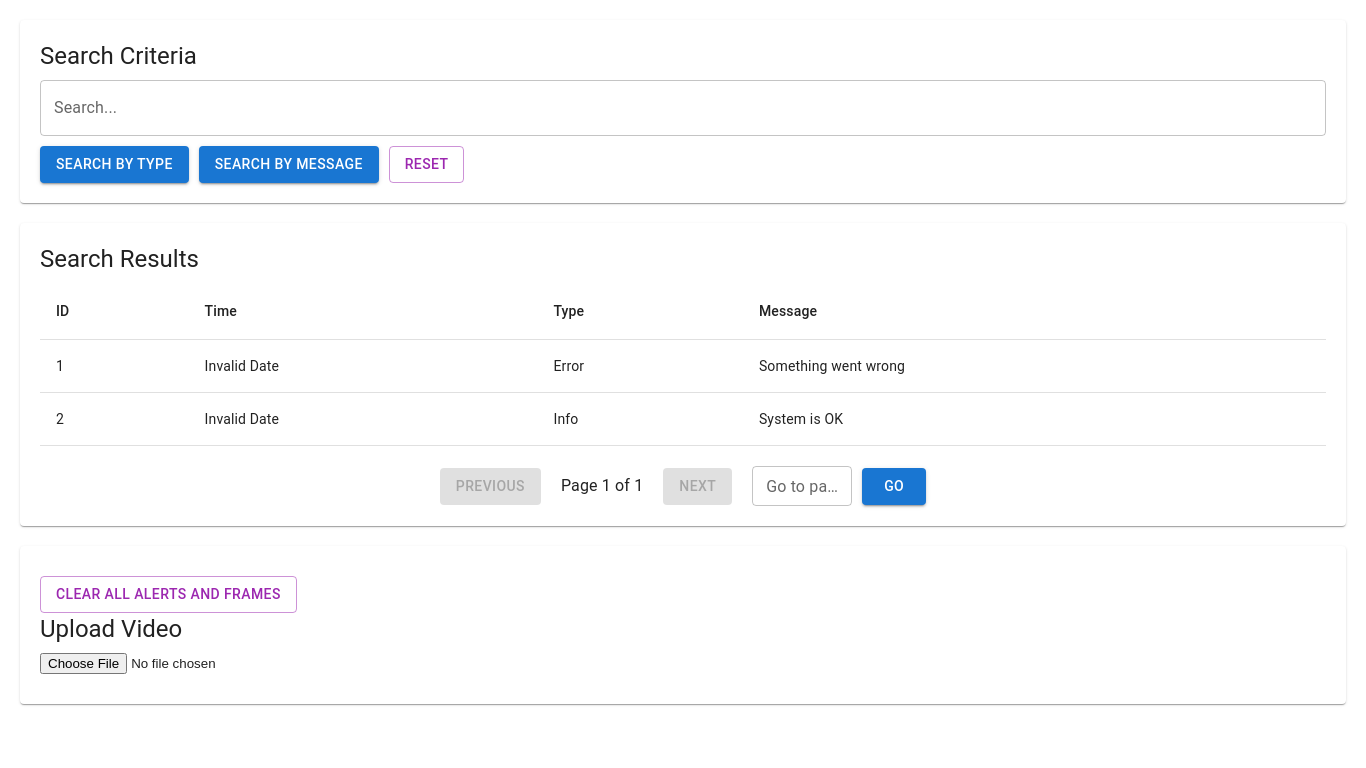
Test: searches by message and filters table
Expected: the text "1" is shown, [40,340,189,393]
Type "wrong" into the field labelled "Search...". click: (683, 108)
box: [40,80,1326,136]
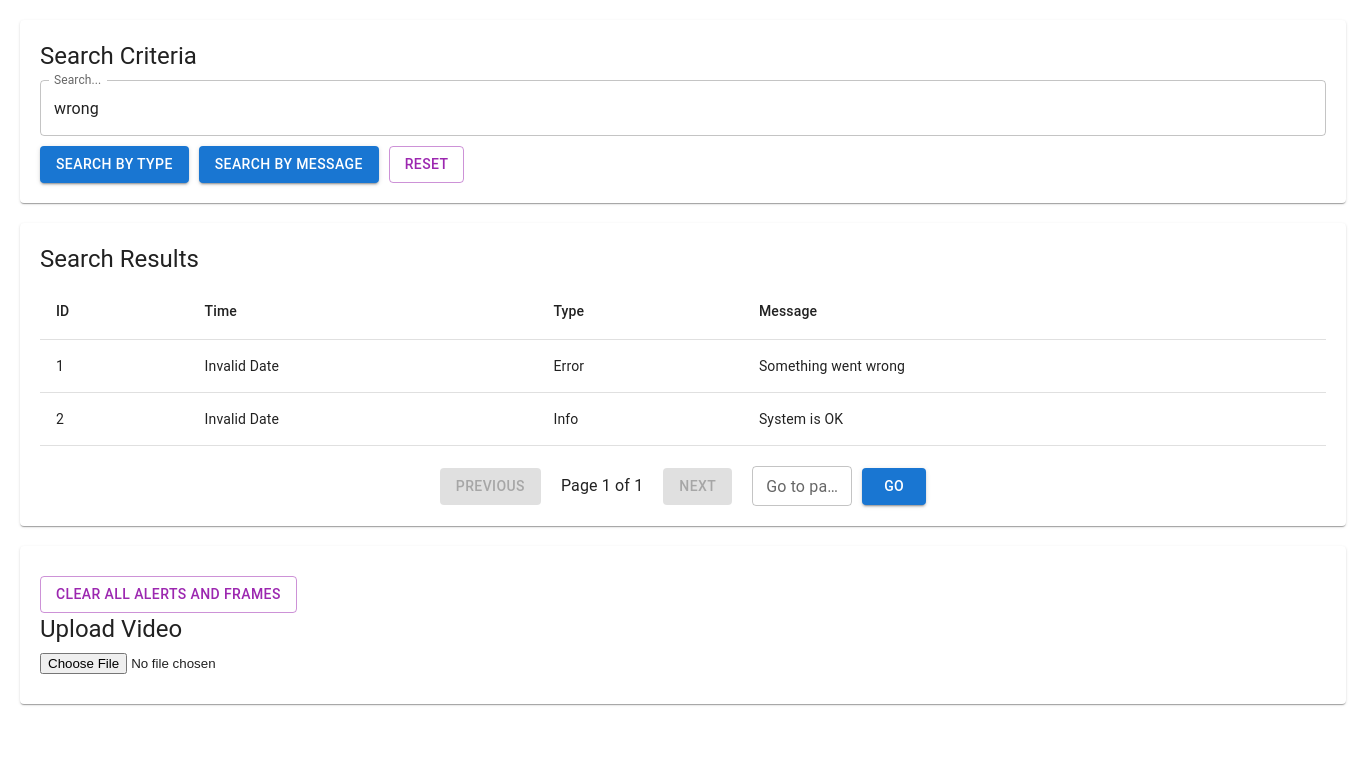
Click the button "Search by Message". click: (289, 165)
box: [199,146,379,183]
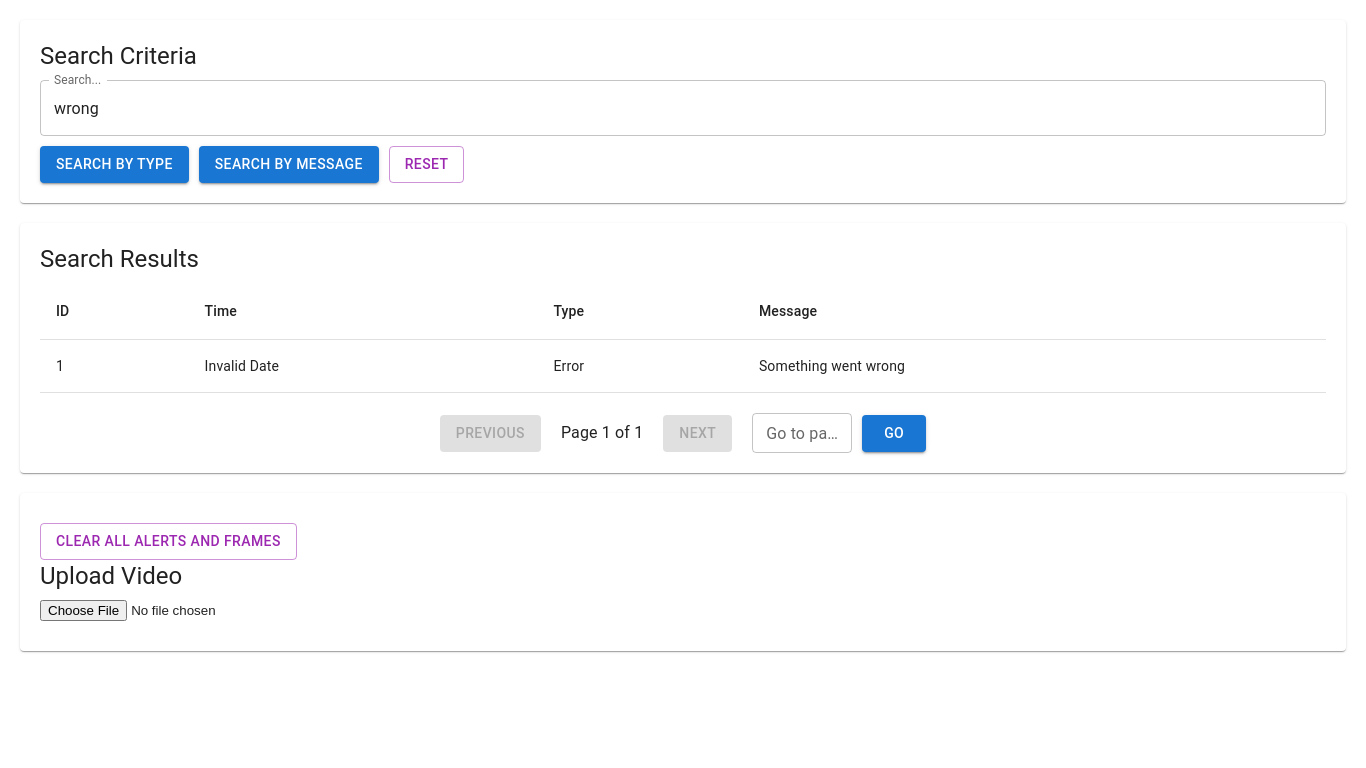
Expected: the text "Something went wrong" is shown, [743,340,1326,393]
Expected: the text "System is OK" is gone
